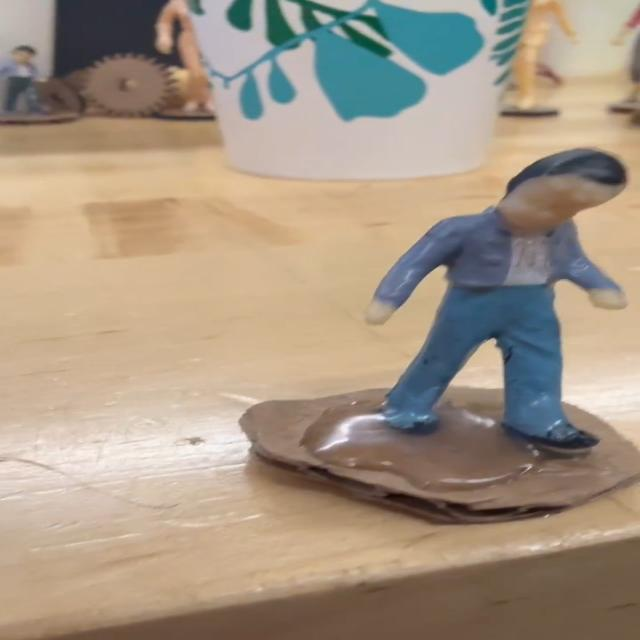Authorized: (335, 126, 640, 486)
